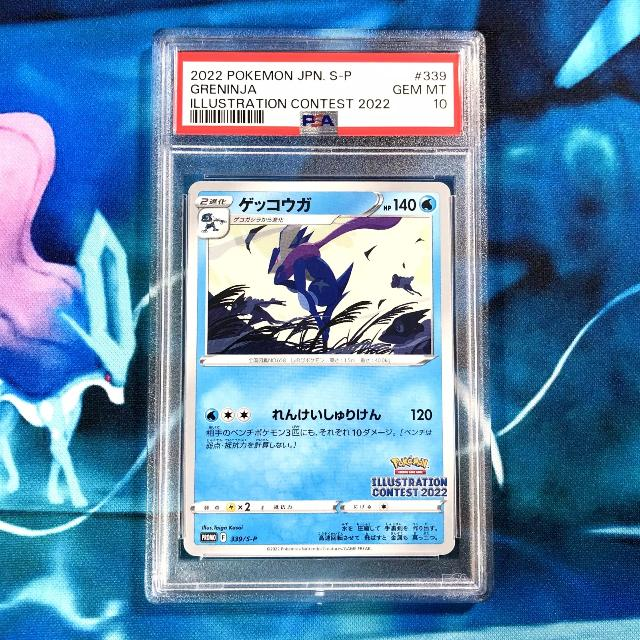card: (182, 181, 456, 555)
psa_label: (174, 50, 462, 135)
psa_slab: (145, 27, 494, 605)
